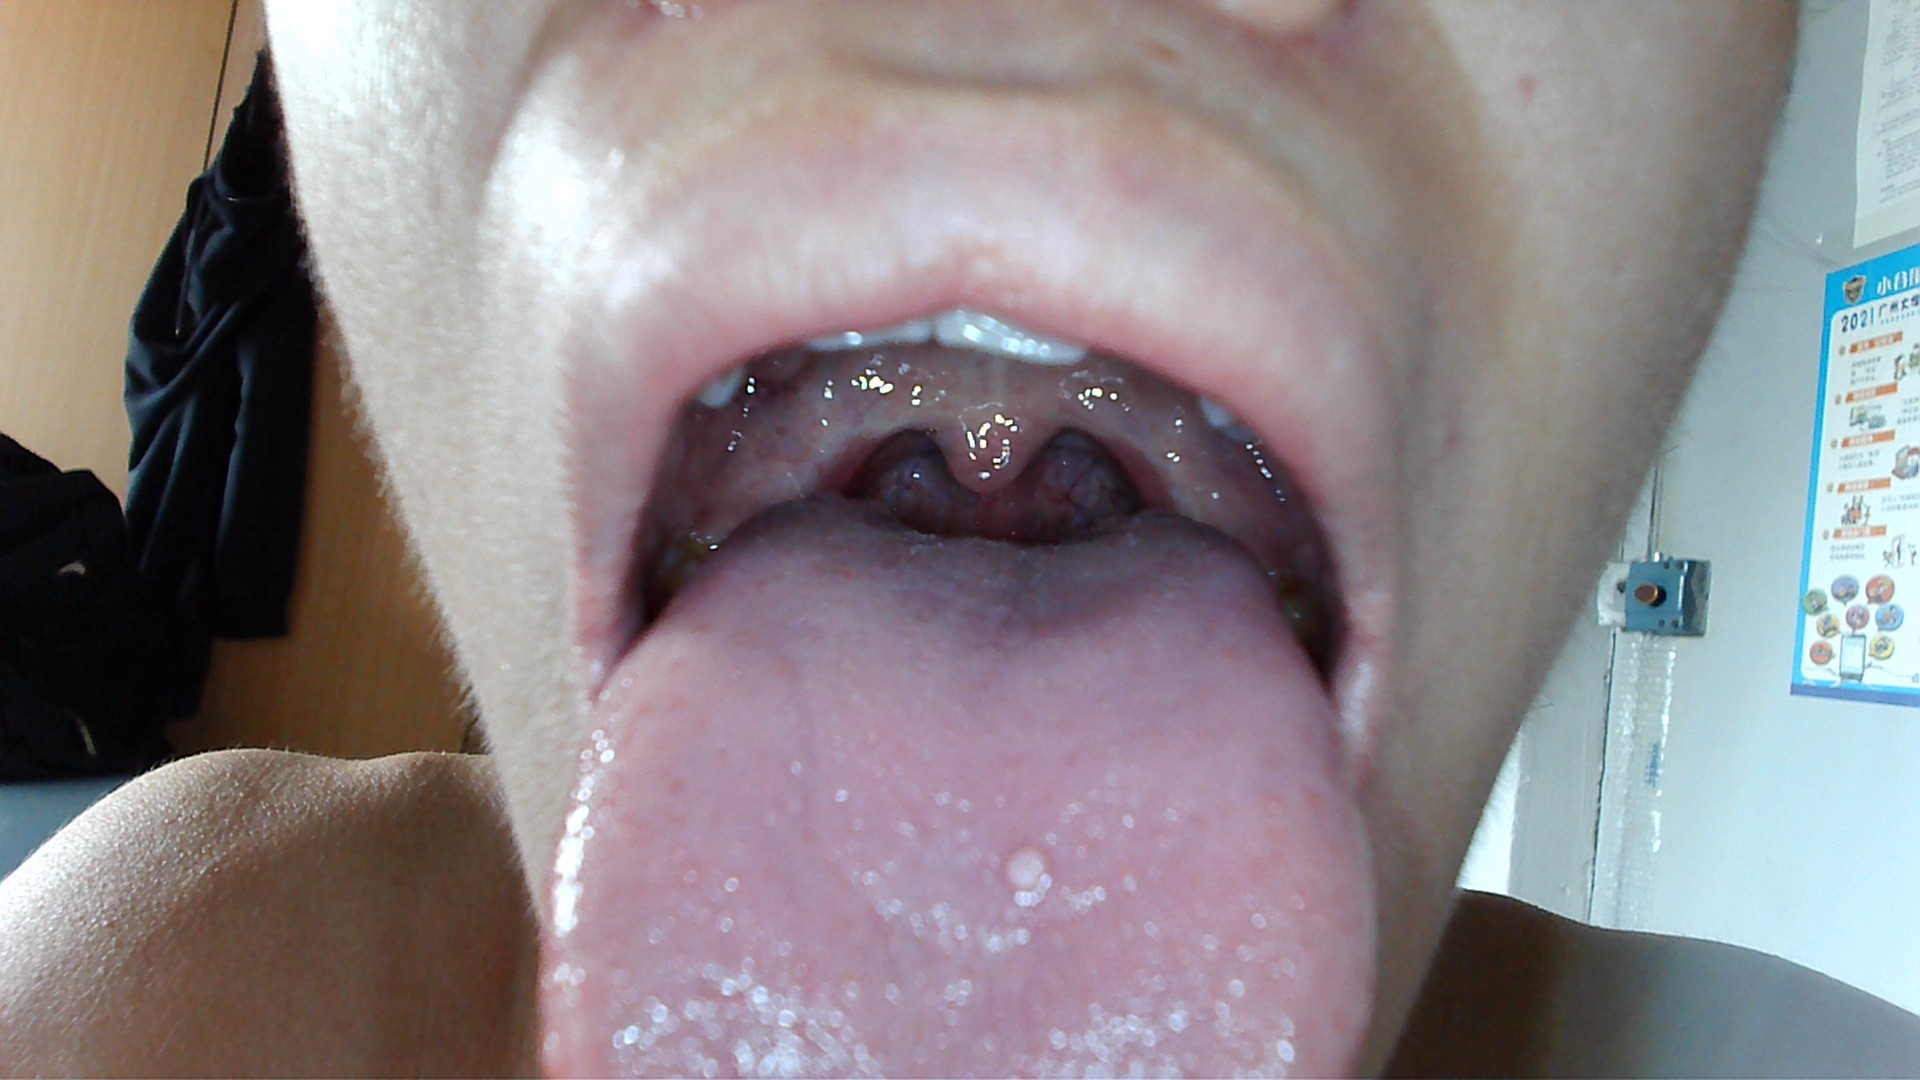throat: (758, 392, 870, 496), (1102, 380, 1178, 516)
